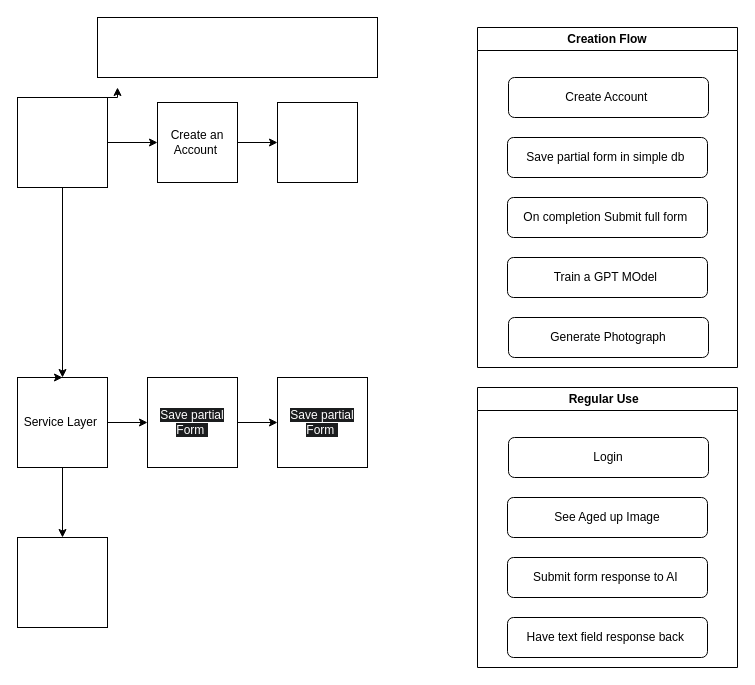
This 755x685 diagram has some shape labels left out. Here are the shapes that lost their labels. From the top down, the centre of each, then its label:
the point at 237,47: Phase 1: Proof of Concept
the point at 62,142: Mobile App
the point at 317,142: Enter a form
the point at 62,582: Data base
